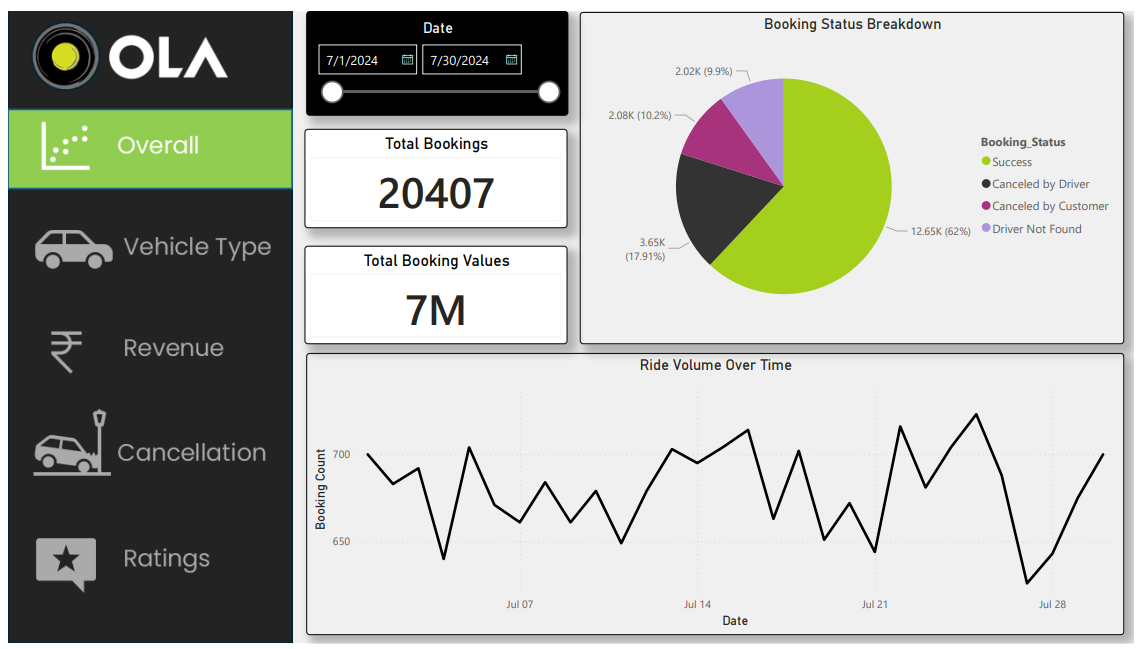

What the dashboard file says about the page in this screenshot:
{"tool":"powerbi","page":{"name":"Overall","canvas":[1280,720],"ordinal":0},"visuals":[{"type":"actionButton","box":[0,220.8,324.5,92.9],"z":0},{"type":"actionButton","box":[0,341.4,324.5,92.9],"z":1000},{"type":"actionButton","box":[0,445.2,324.5,92.9],"z":2000},{"type":"actionButton","box":[0,579.1,324.5,92.9],"z":3000},{"type":"lineChart","title":"Ride Volume Over Time","fields":{"Y":["CountNonNull(July.Booking_ID)"],"Category":["July.Date"]},"box":[338.6,388.6,930,321.4],"z":4000},{"type":"pieChart","title":"Booking Status Breakdown","fields":{"Category":["July.Booking_Status"],"Y":["CountNonNull(July.Booking_Status)"]},"box":[650,1.4,618.6,377.1],"z":5000},{"type":"slicer","title":"Date","fields":{"Values":["July.Date"]},"box":[338.6,0,298.6,118.6],"z":6000},{"type":"cardVisual","title":"Total Bookings","fields":{"Data":["CountNonNull(July.Booking_ID)"]},"box":[337.1,134.3,298.6,112.9],"z":7000},{"type":"cardVisual","title":"Total Booking Values","fields":{"Data":["Sum(July.Booking_Value)"]},"box":[337.1,267.1,298.6,111.4],"z":8000}]}

Visuals, with their boxes in screenshot pixels (x1, y1, x2, y2), scaled from the page's 1280x720 canvas onto the 1144x649 screenshot:
actionButton: 0,199,290,283
actionButton: 0,308,290,391
actionButton: 0,401,290,485
actionButton: 0,522,290,606
"Ride Volume Over Time" lineChart: 303,350,1134,640
"Booking Status Breakdown" pieChart: 581,1,1134,341
"Date" slicer: 303,0,569,107
"Total Bookings" cardVisual: 301,121,568,223
"Total Booking Values" cardVisual: 301,241,568,341
